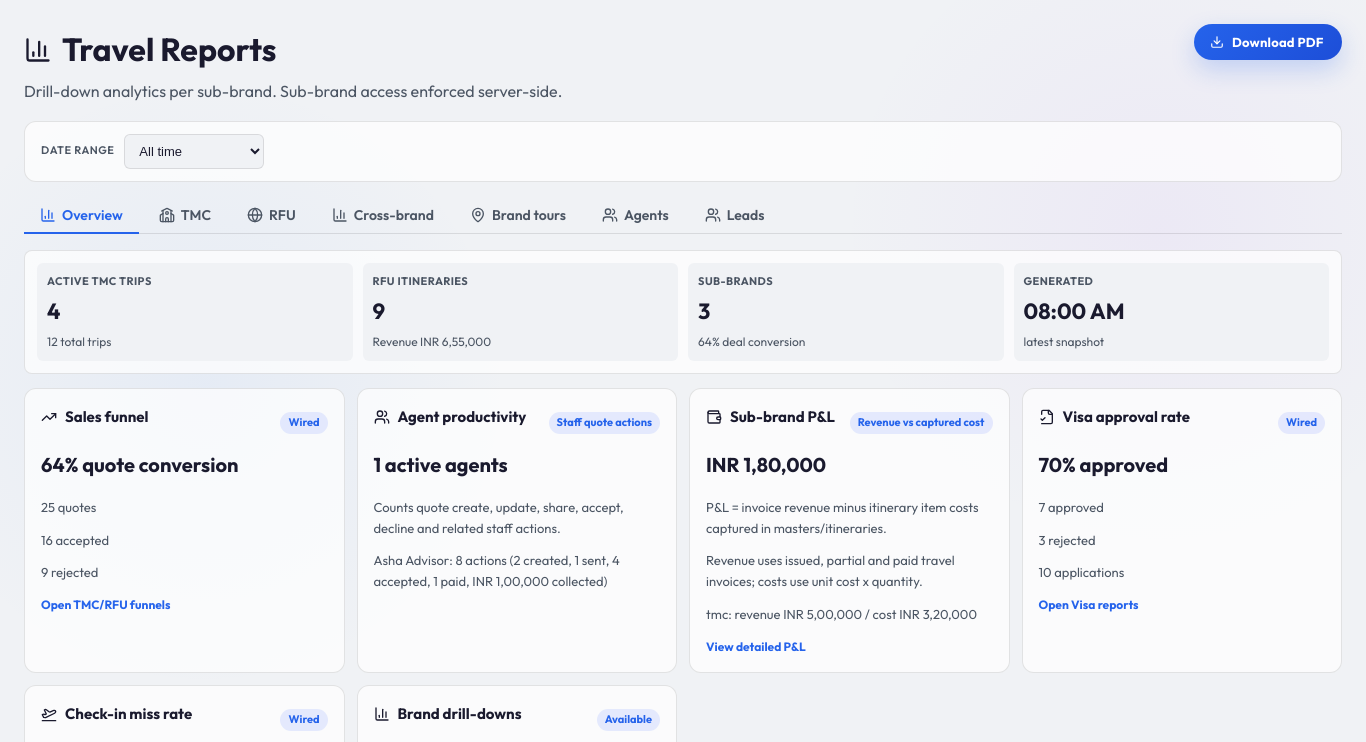
it: <TravelReports /> — RFU tab content › renders RFU KPI tiles + cards after switching to RFU tab
This screenshot has width=1366, height=742.
Click the tab "RFU" at (271, 216), box [231, 198, 312, 234]
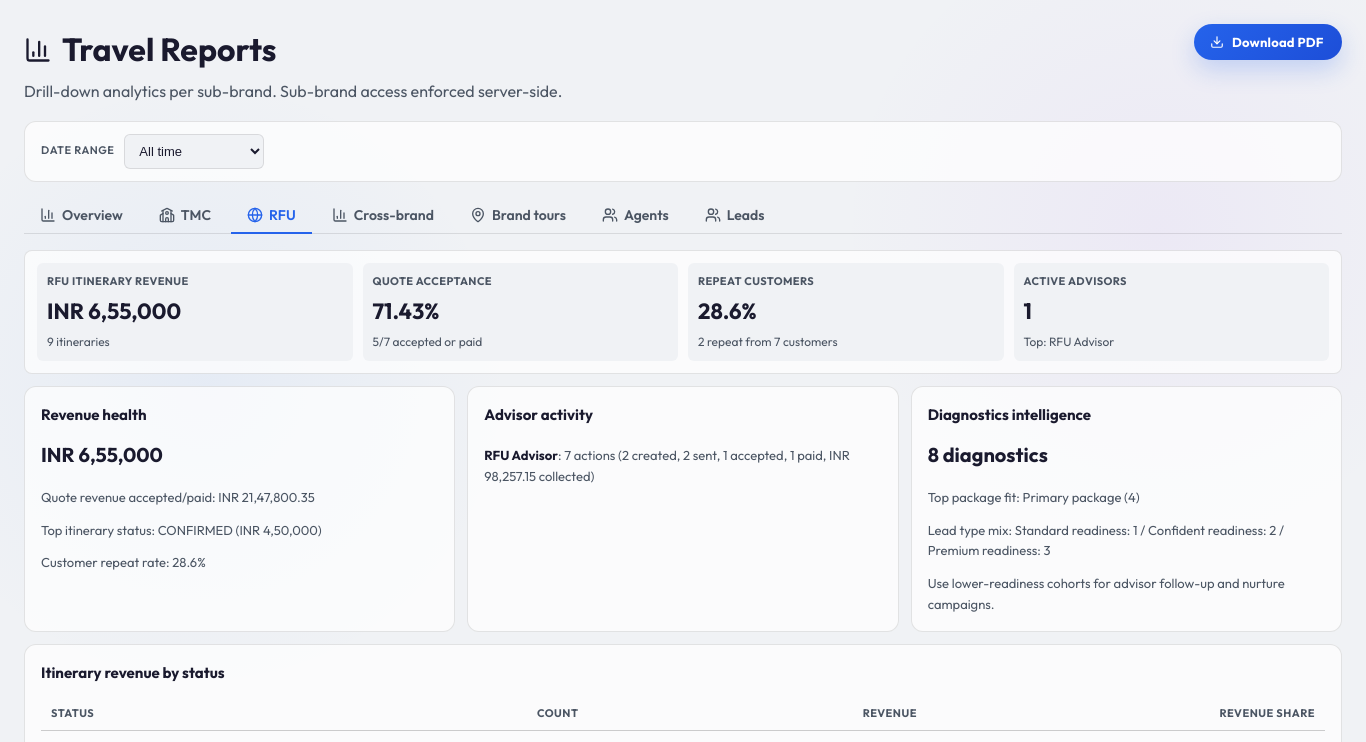
Check: the text "RFU itinerary revenue" is shown, box [47, 274, 189, 288]
Check: the heading "Advisor activity" is shown, box [484, 405, 593, 424]
Check: the heading "Revenue health" is shown, box [41, 405, 146, 424]
